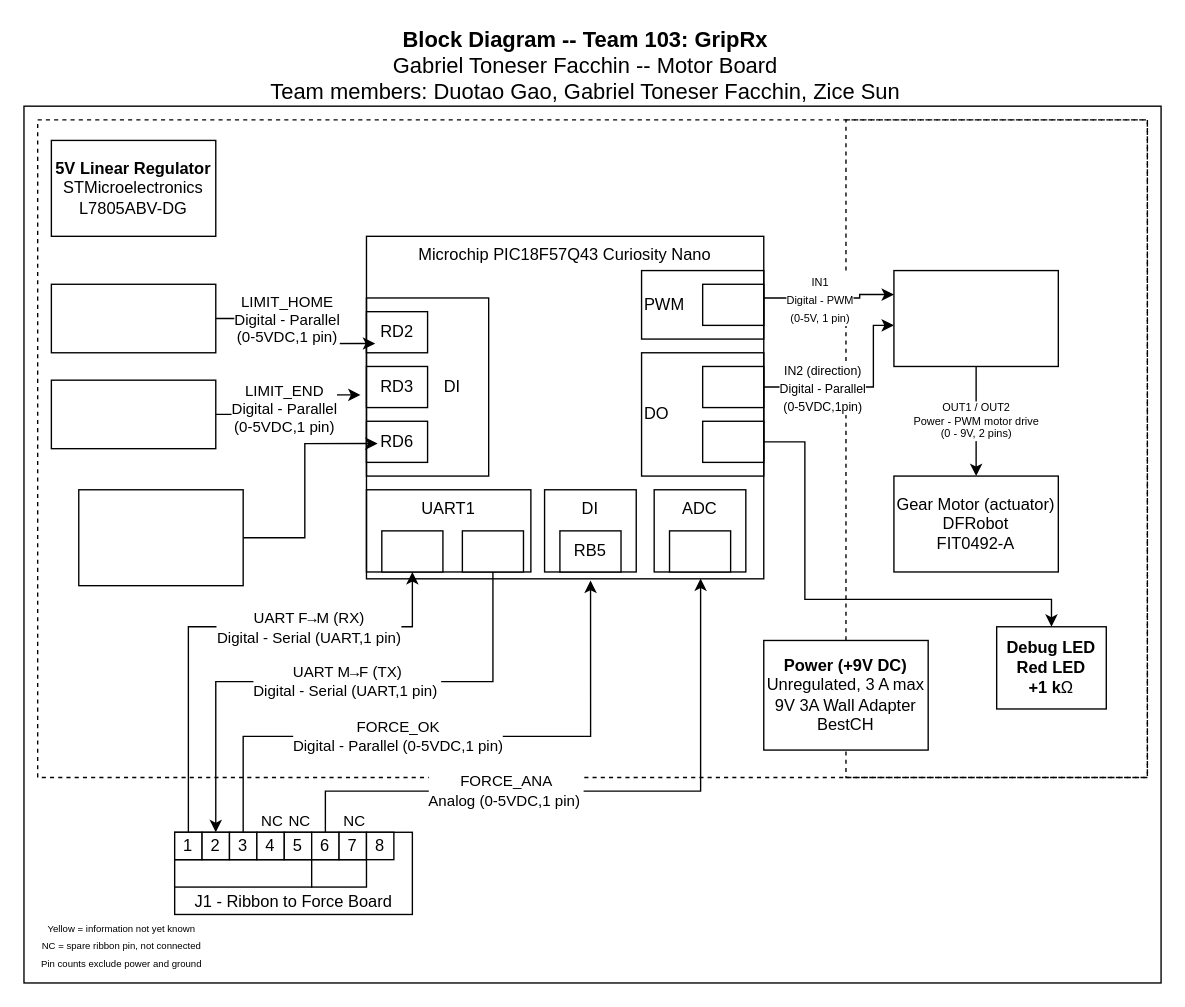
Image size: 1185x1007. Some labels were removed from this diagram. The centre of each missing label's shape, as x and y in pixels:
"analog" goes at point 338,872.
"Debug Button Tactile switch 10 k pull-up +RC debounce" goes at point 160,537.
"digital" goes at point 242,872.
"H-Bridge Driver Texas Instruments DRV8871DDAR (current limit = 1A)" goes at point 975,317.
"Limit Switch (end) Omron D2F-01L" goes at point 133,414.
"Limit Switch (home) Omron D2F-01L" goes at point 133,318.
"RA0" goes at point 699,551.
"RB3" goes at point 732,304.
"RD1" goes at point 732,386.
"RD5" goes at point 732,441.
"RX RC3" goes at point 411,551.
"TX RC2" goes at point 492,551.
